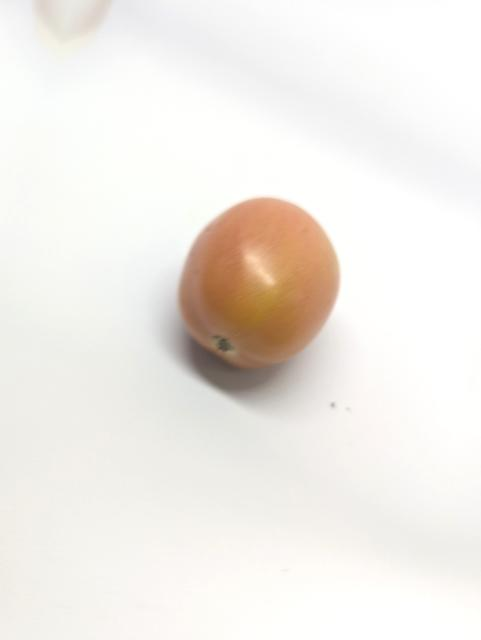turning: (171, 190, 351, 378)
